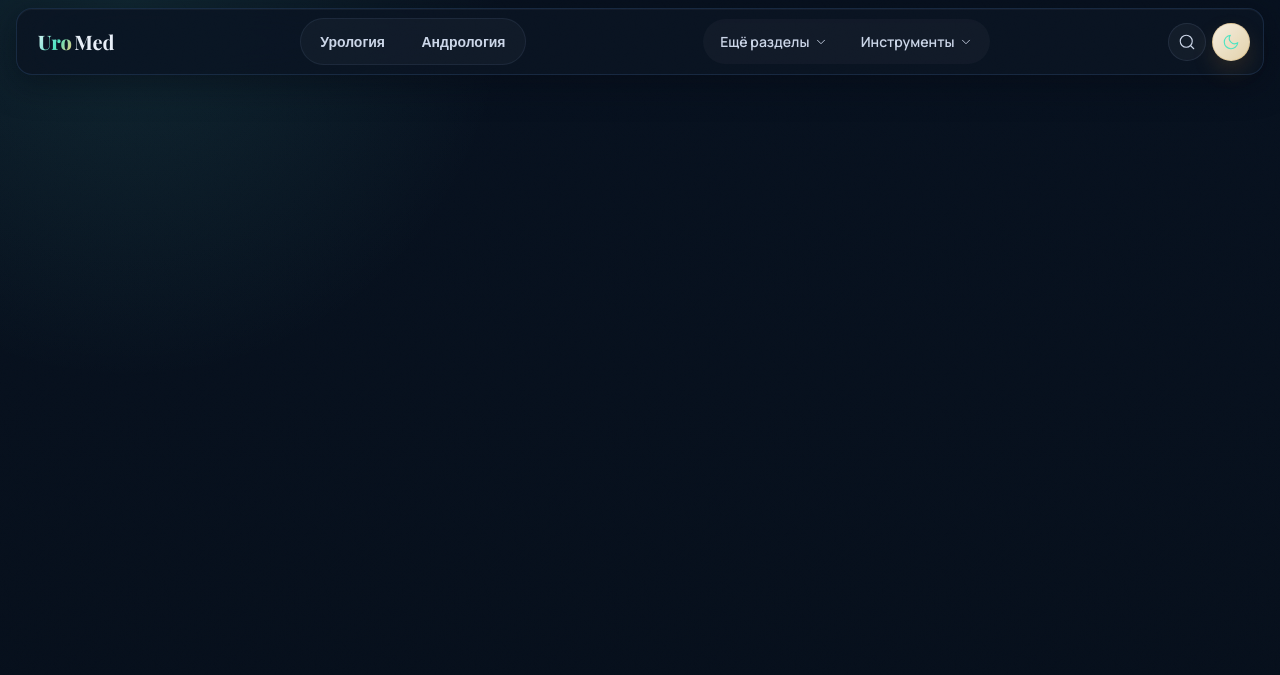
Test: Navbar › shows no-results state for unmatched query
This screenshot has width=1280, height=675.
Step 1. Click the button named "Открыть поиск" → click(1187, 42), box [1168,23,1206,61]
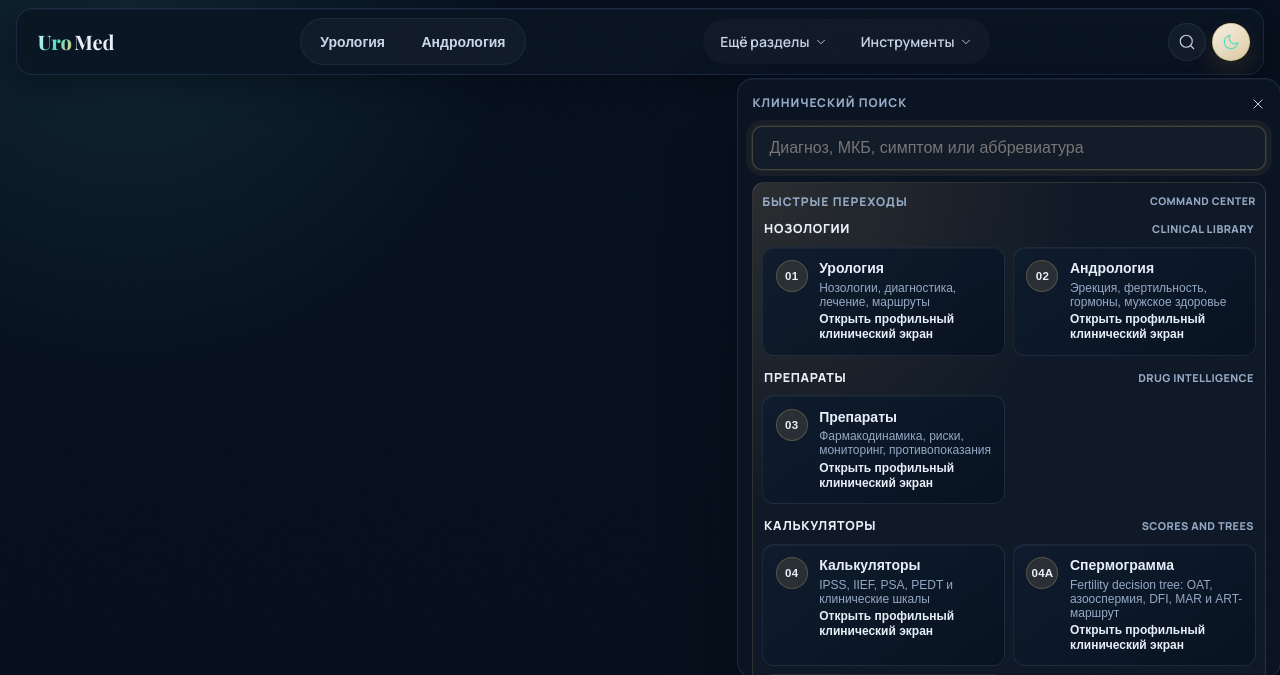
Step 2. Type "zz" into the field named "Поиск по названию, МКБ, симптому, аббревиатуре или идентификатору" → (1009, 147), box [752,125,1266,169]
Wait 300 ms
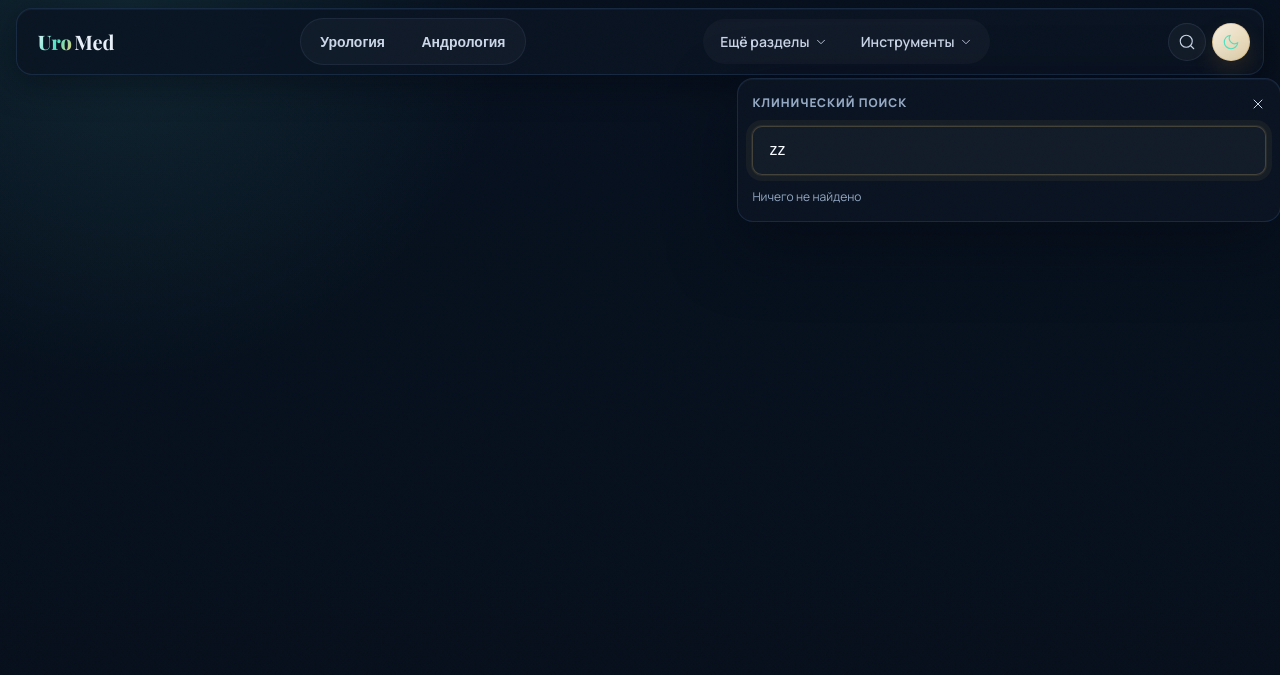
Now the text "Ничего не найдено" is shown, box [752,187,861,204]
